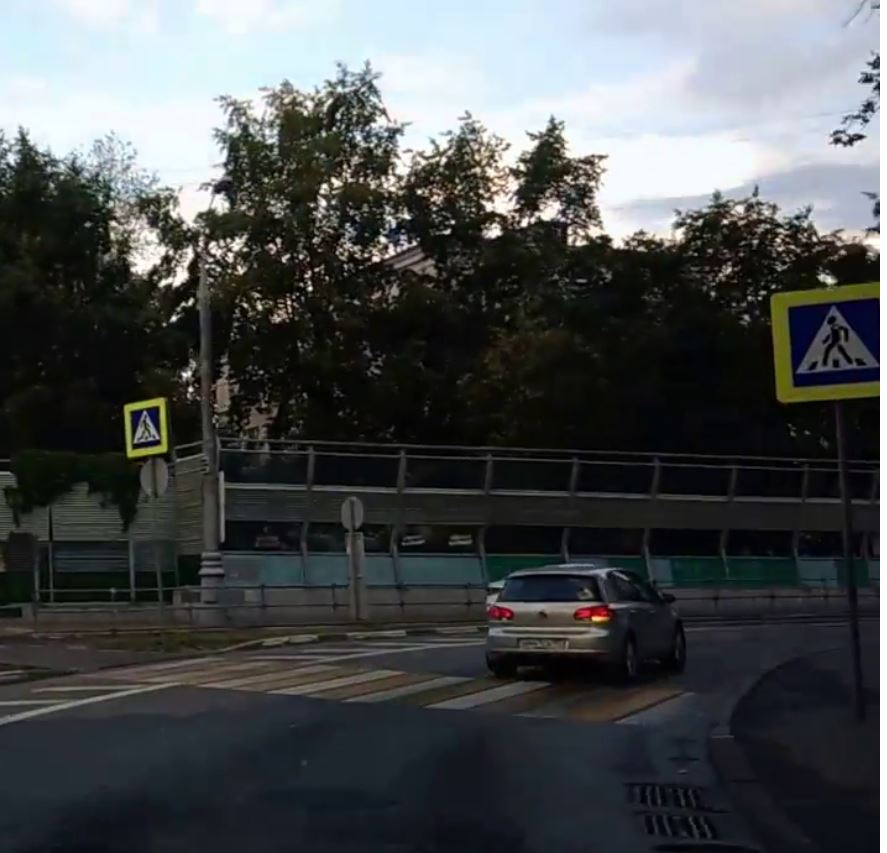Yaya Gecidi: (790, 306, 878, 385), (128, 408, 160, 448)
